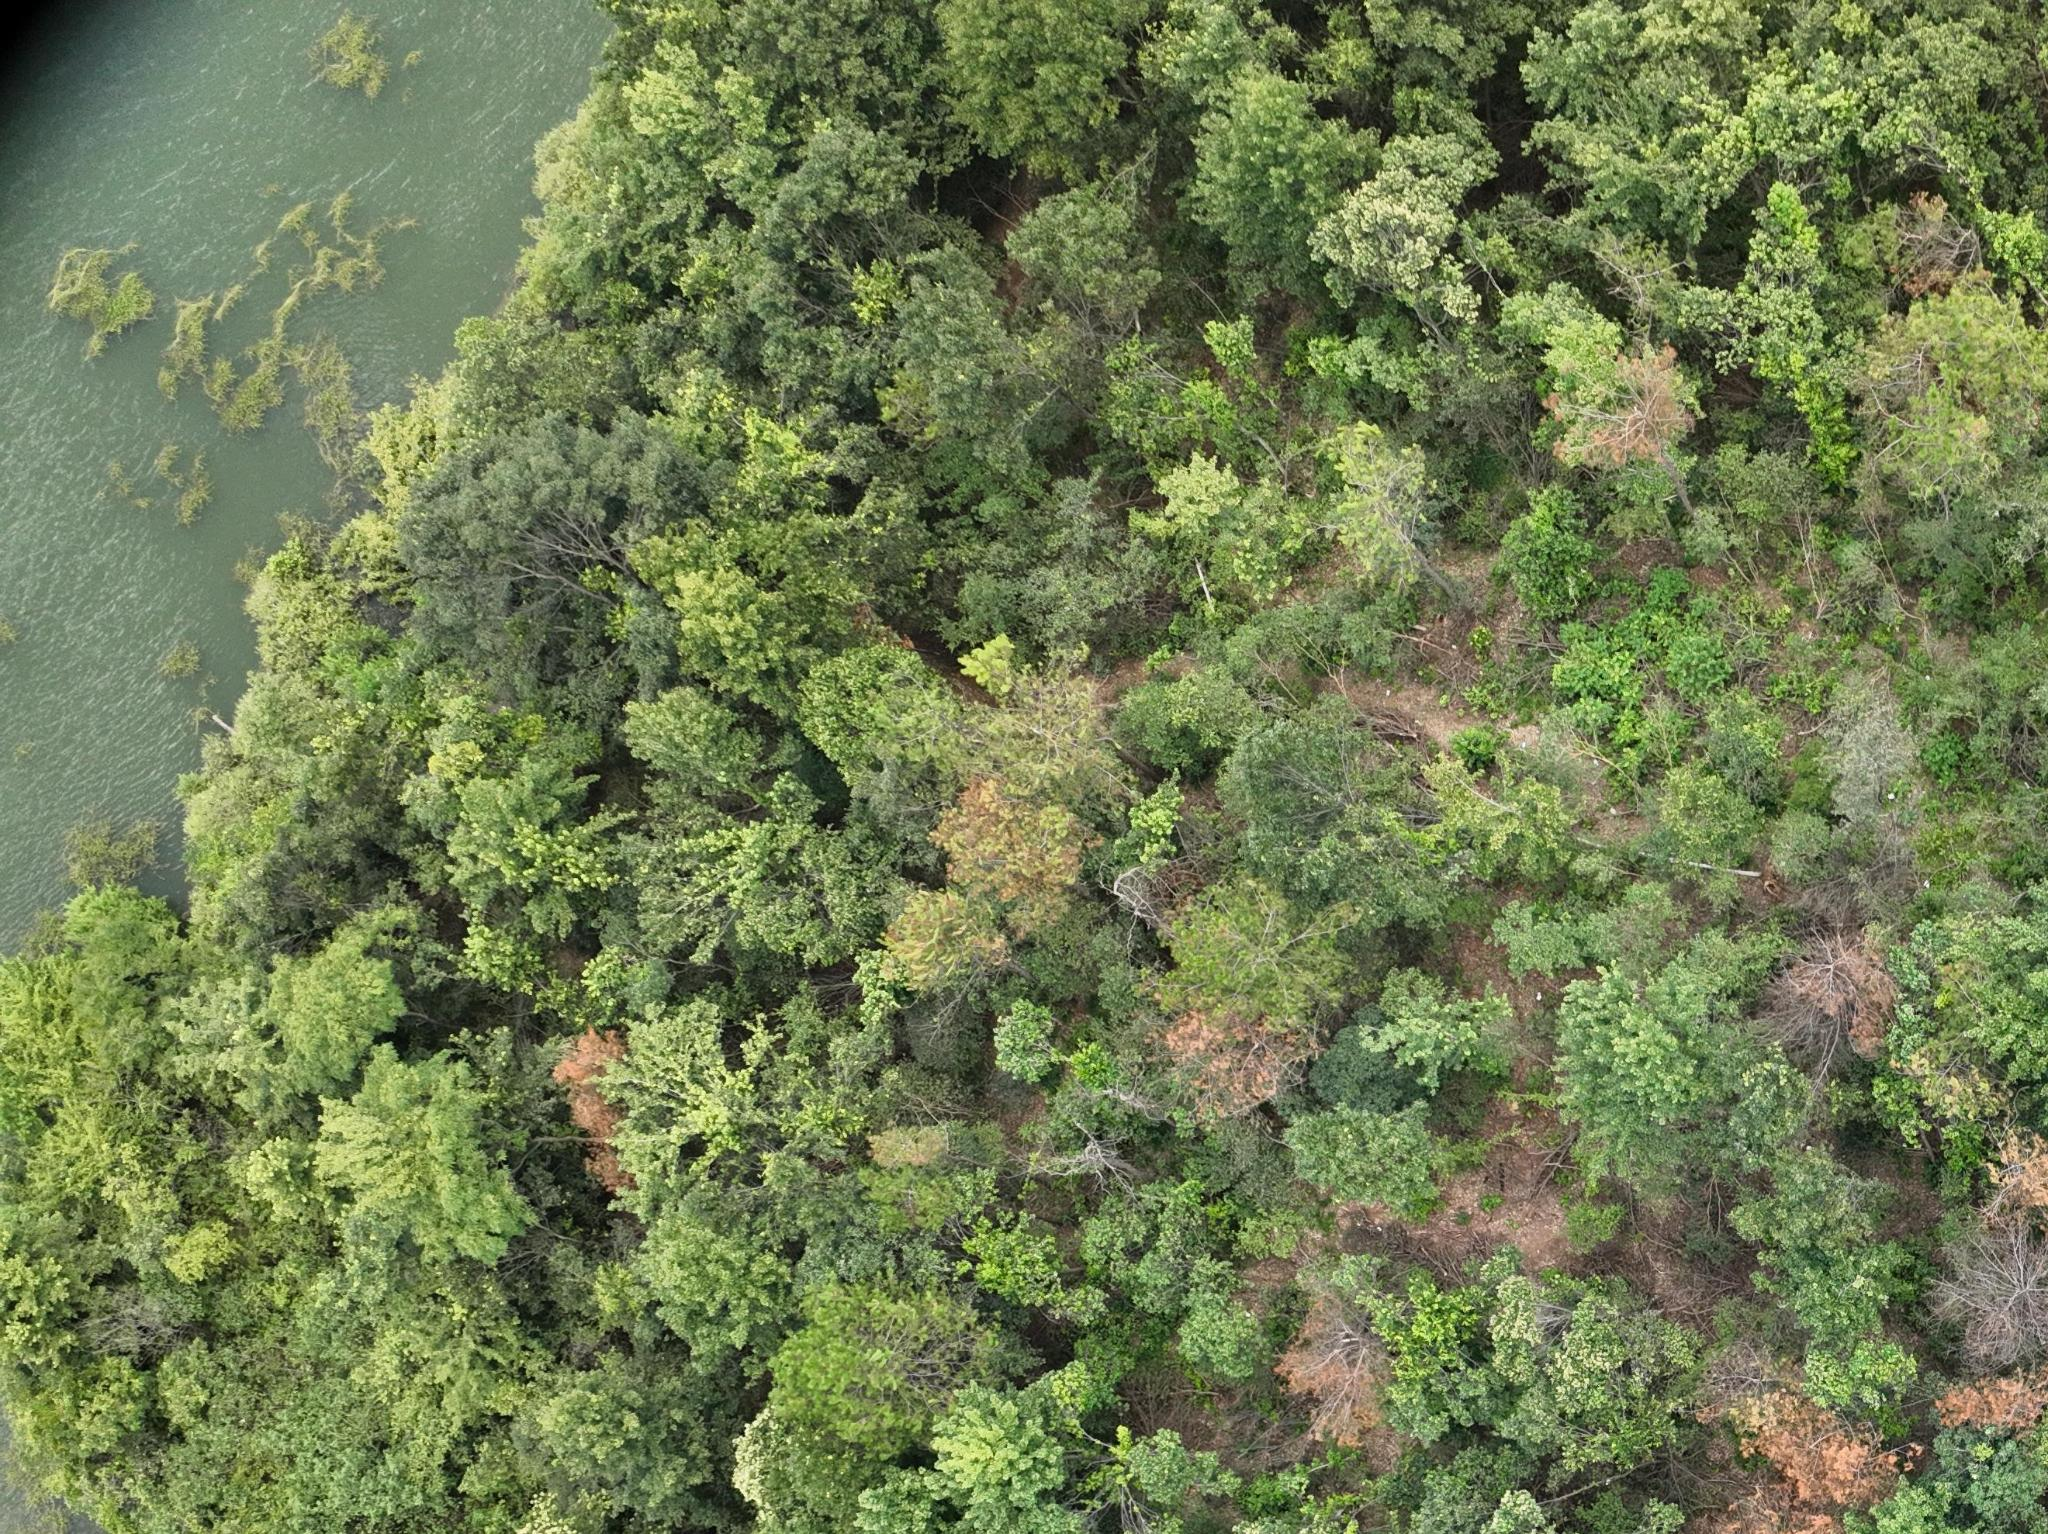dead: (1752, 927, 1905, 1083), (1913, 1221, 2048, 1374)
heavy: (1677, 1350, 1916, 1534), (1273, 1294, 1407, 1473), (1539, 358, 1690, 482), (1162, 1007, 1310, 1130), (548, 1041, 645, 1200), (1985, 1130, 2048, 1215)
light: (918, 773, 1084, 946)
